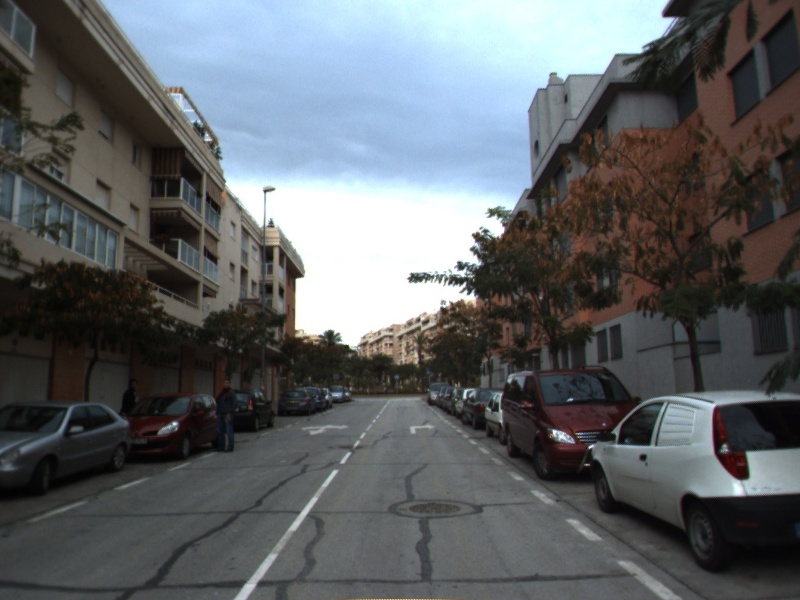RIGHT: (408, 422, 437, 435)
